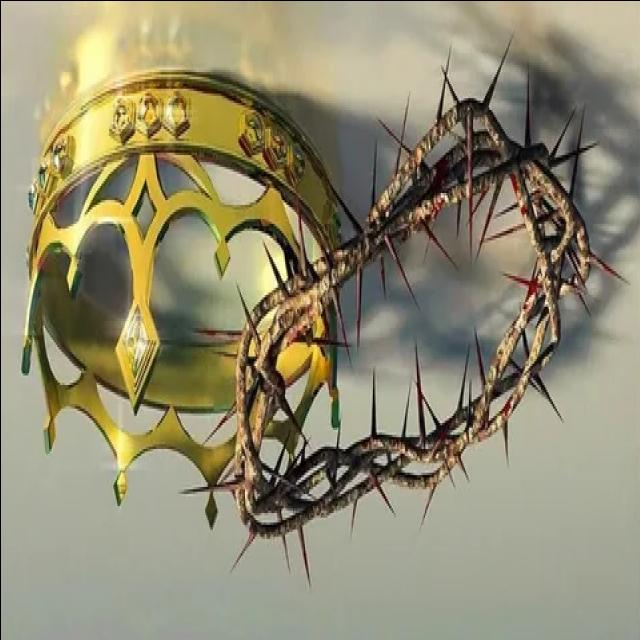crown: (230, 85, 604, 552)
